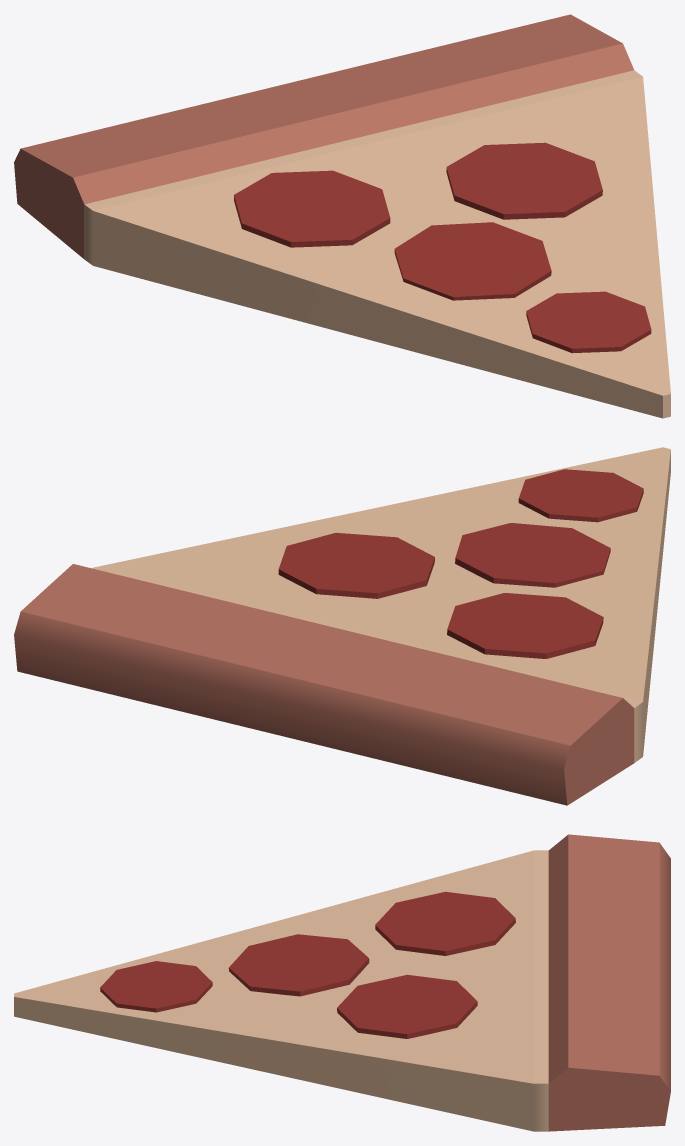
File: pizza.fbx
The picture shows the model from 3 angles, top to bottom: view 1: azimuth 30°, elevation 25°; view 2: azimuth 150°, elevation 25°; view 3: azimuth 270°, elevation 25°; orthographic projection. The views are drawn at different scales.
Visible parts, largest first — view 1: pCube2; view 2: pCube2; view 3: pCube2.
Boxes of the visible parts, <box> form: pCube2: <box>14,14,670,418</box>; pCube2: <box>14,447,670,805</box>; pCube2: <box>14,834,670,1131</box>.
Bounding box in the file's own units: 2.03 × 0.2597 × 2.42.
